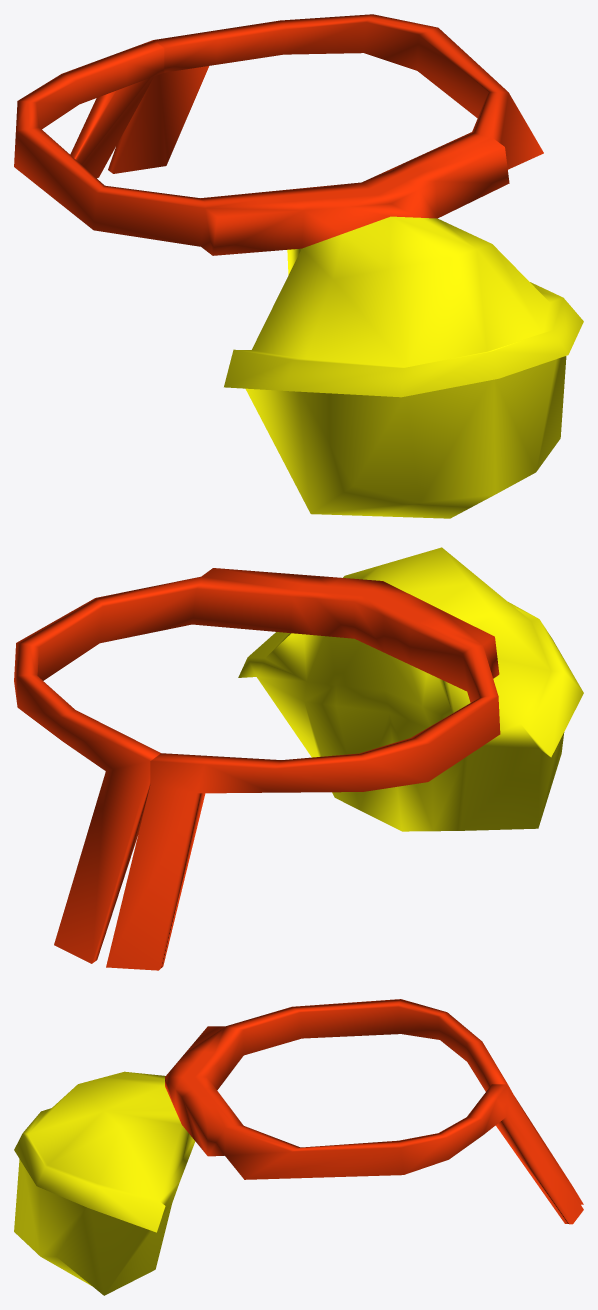
Rendered from suzunoim.fbx.
The picture shows the model from 3 angles, top to bottom: view 1: azimuth 30°, elevation 25°; view 2: azimuth 150°, elevation 25°; view 3: azimuth 270°, elevation 25°; orthographic projection. The views are drawn at different scales.
Parts seen in each view (by area): view 1: pCube2; view 2: pCube2; view 3: pCube2.
Boxes of the visible parts, x1,y1,x2,y2 form: pCube2: (14,14,583,518); pCube2: (14,547,583,970); pCube2: (14,999,583,1295).
Size of the model in its own units: 0.5608 by 0.3569 by 0.9065.
1 material, 1 textured.
